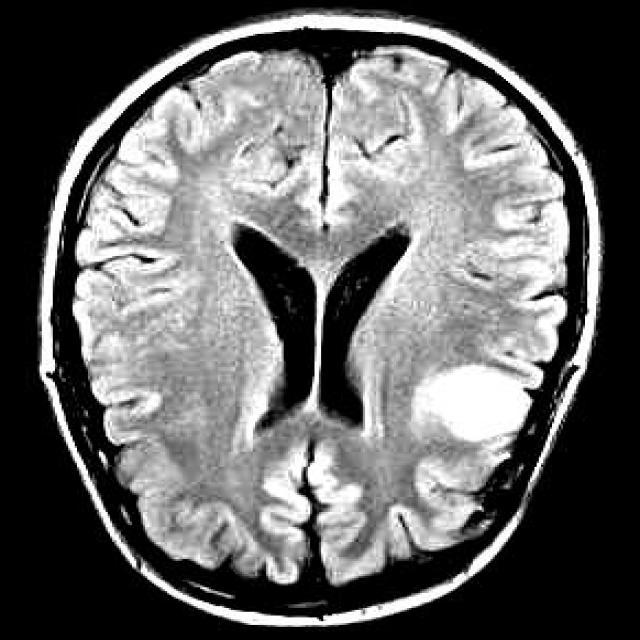tumor: (411, 361, 541, 444)
